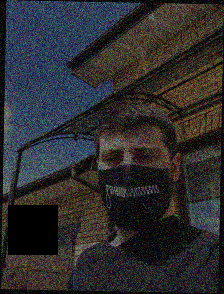with_mask: (96, 139, 173, 231)
